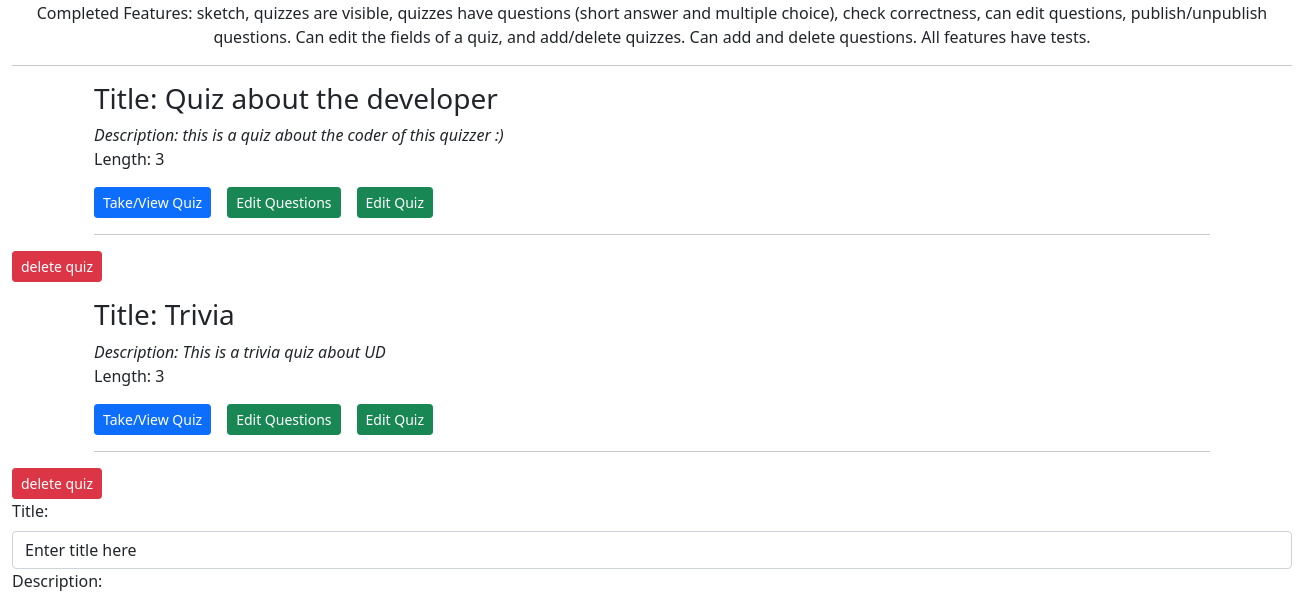
Quizzer Tests › Edit Questions
(page scrolled)
Click the button "Edit Questions" below "Quiz about the developer". click: (284, 203)
box: [227,187,341,218]
(page scrolled)
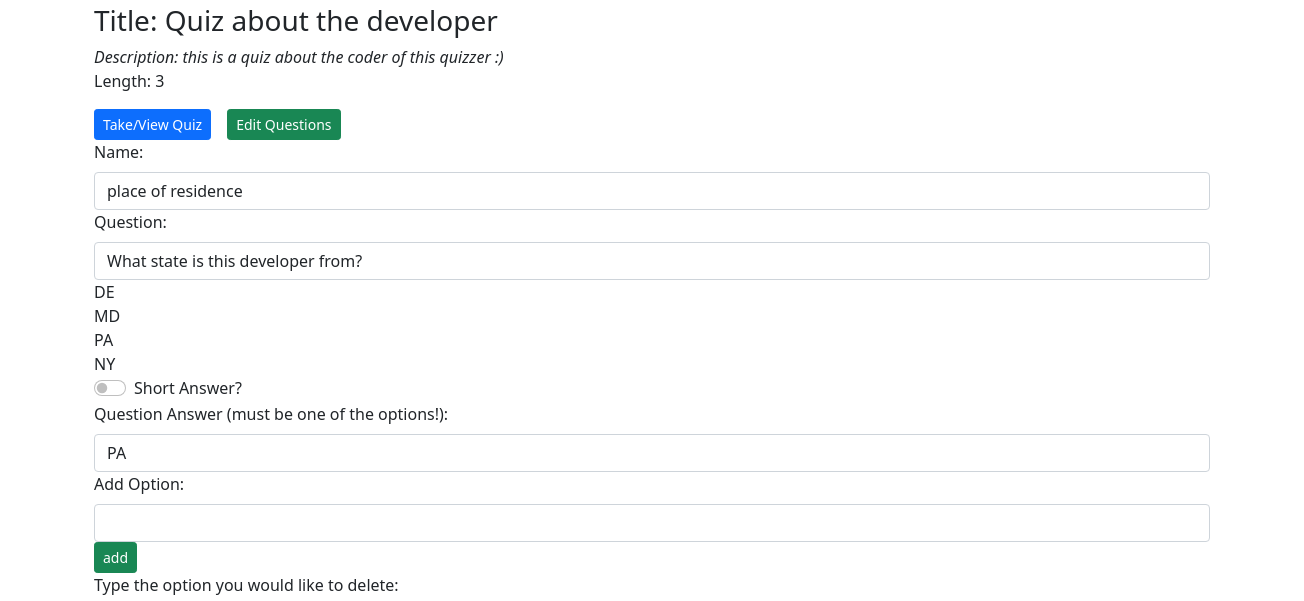
Type "hello" into the field labelled "Name:". click: (652, 191)
box: [94,172,1210,210]
(page scrolled)
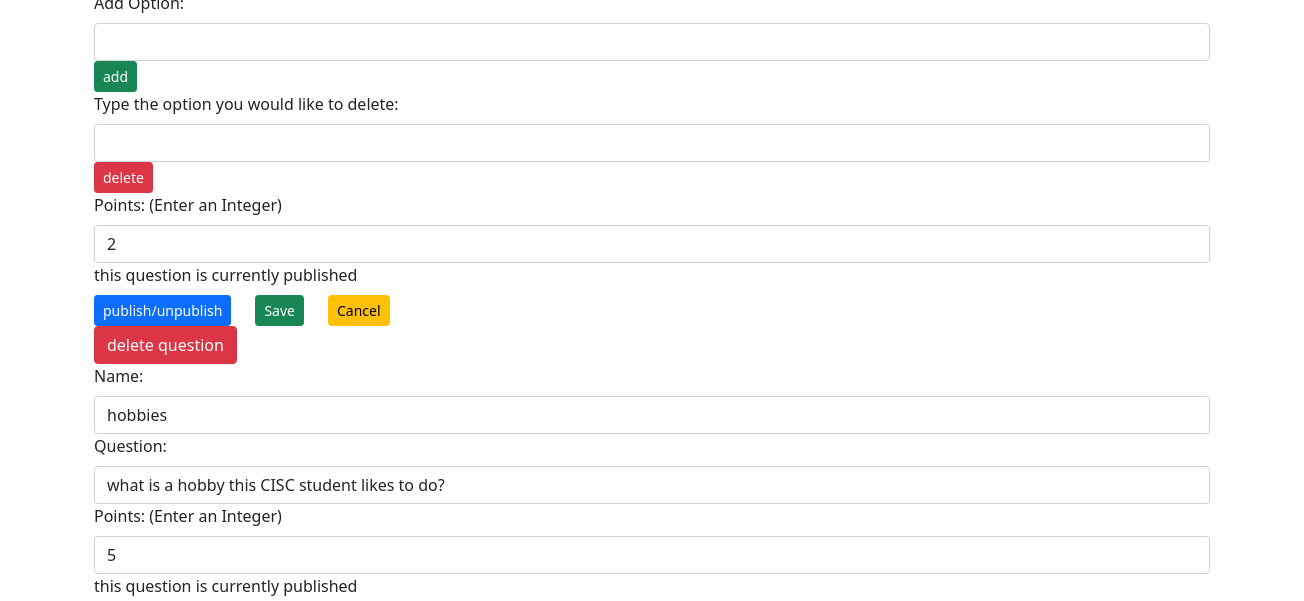
Click the button with test id "save". click: (280, 311)
box: [255,295,304,326]
(page scrolled)
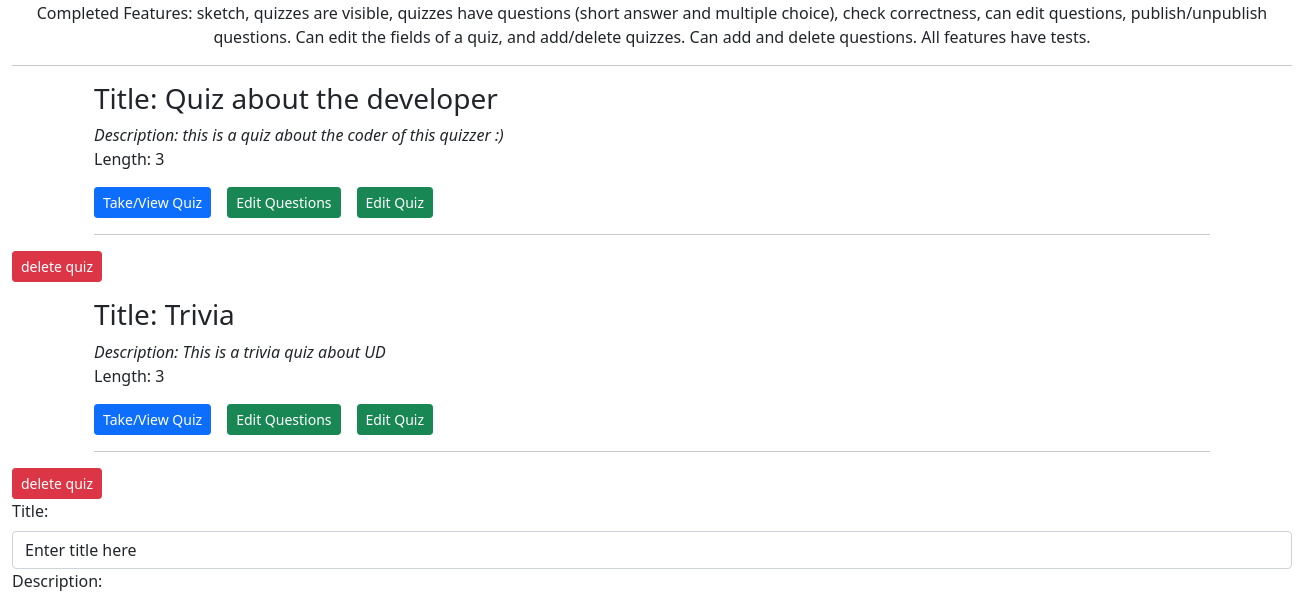
Click the button "Take/View Quiz" below "Quiz about the developer". click: (153, 203)
box: [94,187,211,218]
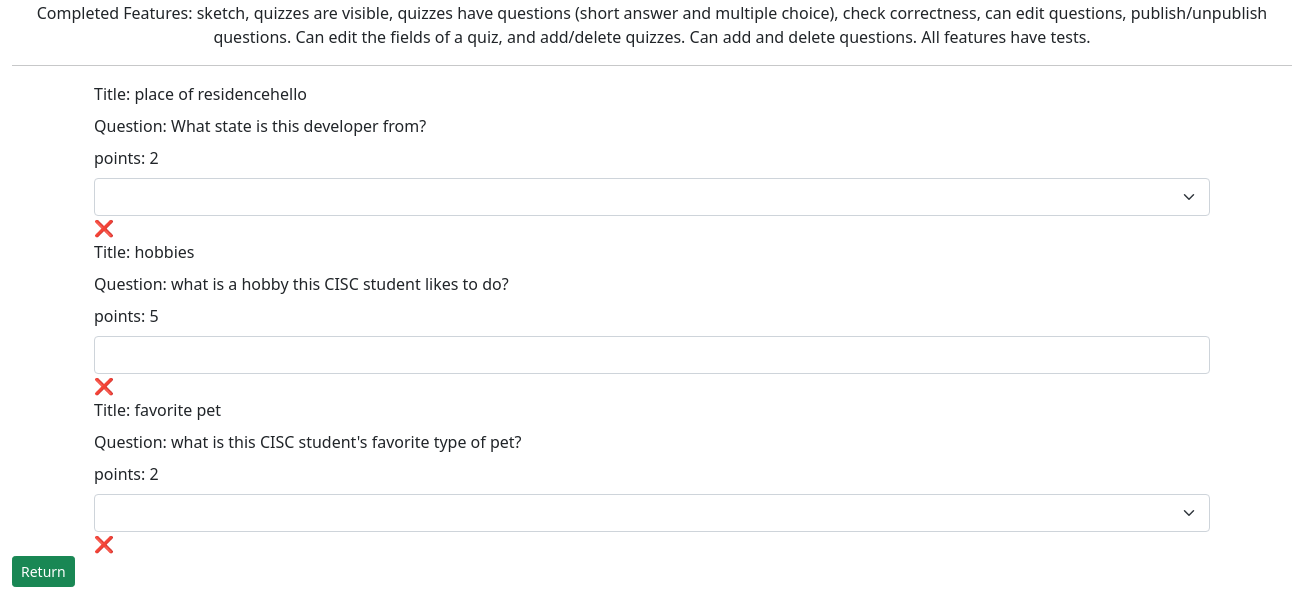
Check: the text "hello" is shown, box [134,83,307,105]
